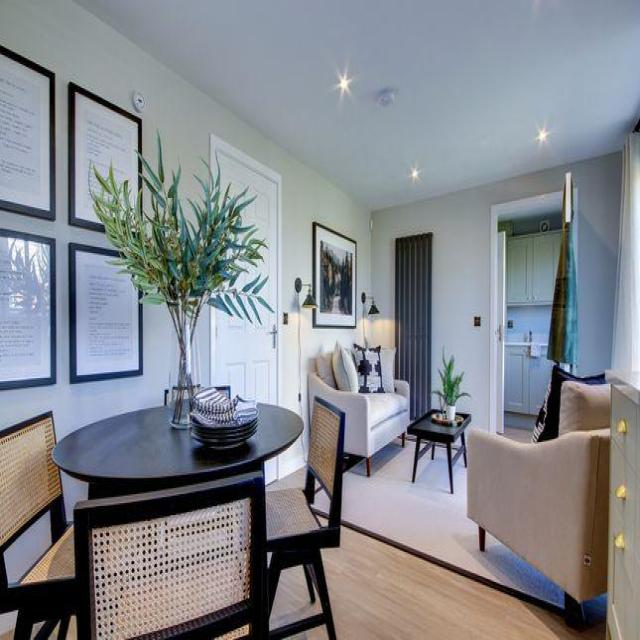Wall: (0, 0, 566, 436), (79, 1, 640, 209), (323, 441, 606, 639), (570, 152, 620, 372), (5, 514, 50, 582), (270, 568, 319, 627), (62, 474, 88, 522), (508, 306, 551, 334), (309, 328, 346, 357), (270, 470, 305, 488), (315, 491, 329, 515), (301, 626, 325, 638), (0, 615, 14, 631), (509, 429, 530, 438)
